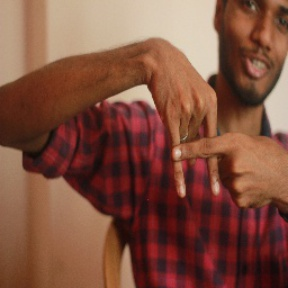H: (144, 77, 261, 218)
